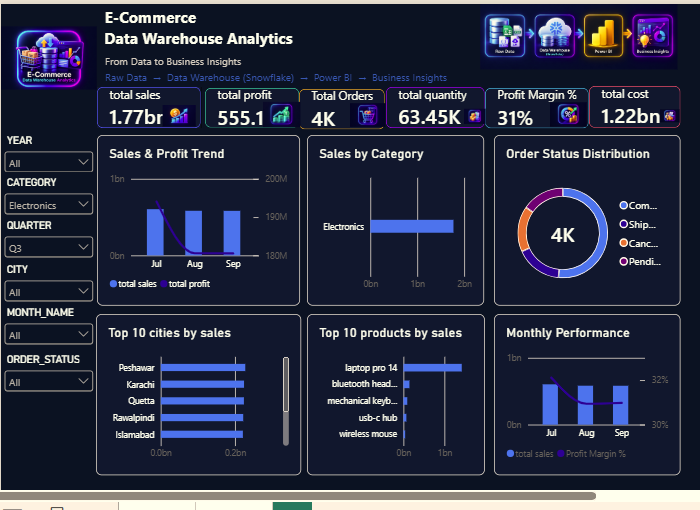

What the dashboard file says about the page in this screenshot:
{"tool":"powerbi","page":{"name":"Page 1","canvas":[1920,1080],"ordinal":0},"visuals":[{"type":"cardVisual","fields":{"Data":["FACT_SALES.Profit Margin %"]},"box":[202.6,128.9,164.5,119.7],"z":0},{"type":"cardVisual","fields":{"Data":["FACT_SALES.total profit"]},"box":[196.1,9.2,171.1,106.6],"z":1000},{"type":"cardVisual","fields":{"Data":["FACT_SALES.total quantity"]},"box":[19.7,128.9,155.3,119.7],"z":2000},{"type":"cardVisual","fields":{"Data":["FACT_SALES.total sales"]},"box":[19.7,9.2,156.6,106.6],"z":3000},{"type":"cardVisual","fields":{"Data":["FACT_SALES.total cost"]},"box":[393.4,128.9,156.6,122.4],"z":4000},{"type":"cardVisual","fields":{"Data":["FACT_SALES.Total Orders"]},"box":[393.4,9.2,156.6,106.6],"z":5000},{"type":"lineClusteredColumnComboChart","title":"Sales & Profit Trend","fields":{"Category":["DIM_DATE.MONTH_NAME"],"Y":["FACT_SALES.total sales"],"Y2":["FACT_SALES.total profit"]},"box":[28.9,285.5,607.9,290.8],"z":6000},{"type":"donutChart","title":"Order Status Distribution","fields":{"Category":["DIM_ORDER_STATUS.ORDER_STATUS"],"Y":["FACT_SALES.Total Orders"]},"box":[590,26.7,391.1,258.9],"z":7000},{"type":"clusteredBarChart","title":"Sales by Category","fields":{"Category":["DIM_PRODUCT.CATEGORY"],"Y":["FACT_SALES.total sales"]},"box":[648.9,317.8,391,259],"z":8000},{"type":"barChart","title":"Top 10 cities by sales","fields":{"Category":["DIM_CUSTOMER.CITY"],"Y":["FACT_SALES.total sales"]},"box":[20,600,391.1,343.3],"z":9000},{"type":"barChart","title":"Top 10 products by sales ","fields":{"Category":["DIM_PRODUCT.PRODUCT_NAME"],"Y":["FACT_SALES.total sales"]},"box":[1145.6,62.2,416.7,258.9],"z":10000},{"type":"lineClusteredColumnComboChart","title":"Monthly Performance","fields":{"Category":["DIM_DATE.MONTH_NAME"],"Y":["FACT_SALES.total sales"],"Y2":["FACT_SALES.Profit Margin %"]},"box":[523.3,642.2,457.8,258.9],"z":11000},{"type":"slicer","fields":{"Values":["DIM_DATE.YEAR"]},"box":[1085.6,381.1,255.6,100],"z":11001},{"type":"slicer","fields":{"Values":["DIM_DATE.QUARTER"]},"box":[1354.4,351.1,165,259],"z":11002},{"type":"tableEx","box":[1573,62,347,259],"z":11003},{"type":"slicer","fields":{"Values":["DIM_DATE.MONTH_NAME"]},"box":[1511.1,341.1,155,259],"z":11004},{"type":"slicer","fields":{"Values":["DIM_CUSTOMER.CITY"]},"box":[1308.9,526.7,155,259],"z":11005},{"type":"slicer","fields":{"Values":["DIM_ORDER_STATUS.ORDER_STATUS"]},"box":[1666,341,254,259],"z":11006},{"type":"slicer","fields":{"Values":["DIM_PRODUCT.CATEGORY"]},"box":[1068.9,512.2,254,259],"z":11007},{"type":"slicer","fields":{"Values":["DIM_DATE.YEAR"]},"box":[1095.6,391.1,255.6,100],"z":11008}]}

Visuals, with their boxes on the page's 1920x1080 design canvas (x1, y1, x2, y2). These are canvas units, not pixel positions in the 700x510 screenshot, which may show the page scaled, cropped or inside an application window:
cardVisual - FACT_SALES.Profit Margin %: rect(203, 129, 367, 249)
cardVisual - FACT_SALES.total profit: rect(196, 9, 367, 116)
cardVisual - FACT_SALES.total quantity: rect(20, 129, 175, 249)
cardVisual - FACT_SALES.total sales: rect(20, 9, 176, 116)
cardVisual - FACT_SALES.total cost: rect(393, 129, 550, 251)
cardVisual - FACT_SALES.Total Orders: rect(393, 9, 550, 116)
"Sales & Profit Trend" lineClusteredColumnComboChart: rect(29, 286, 637, 576)
"Order Status Distribution" donutChart: rect(590, 27, 981, 286)
"Sales by Category" clusteredBarChart: rect(649, 318, 1040, 577)
"Top 10 cities by sales" barChart: rect(20, 600, 411, 943)
"Top 10 products by sales " barChart: rect(1146, 62, 1562, 321)
"Monthly Performance" lineClusteredColumnComboChart: rect(523, 642, 981, 901)
slicer - DIM_DATE.YEAR: rect(1086, 381, 1341, 481)
slicer - DIM_DATE.QUARTER: rect(1354, 351, 1519, 610)
tableEx: rect(1573, 62, 1920, 321)
slicer - DIM_DATE.MONTH_NAME: rect(1511, 341, 1666, 600)
slicer - DIM_CUSTOMER.CITY: rect(1309, 527, 1464, 786)
slicer - DIM_ORDER_STATUS.ORDER_STATUS: rect(1666, 341, 1920, 600)
slicer - DIM_PRODUCT.CATEGORY: rect(1069, 512, 1323, 771)
slicer - DIM_DATE.YEAR: rect(1096, 391, 1351, 491)
